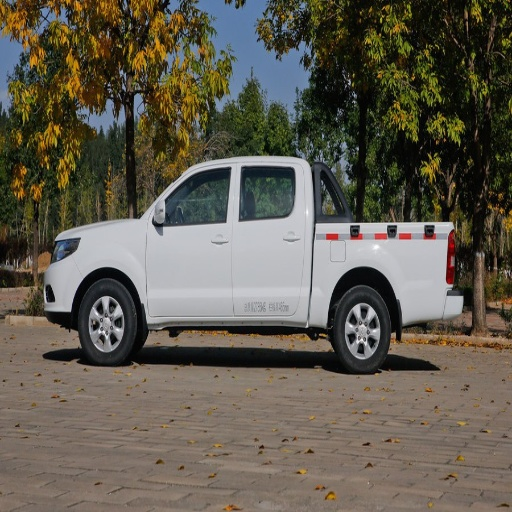back_glass: (236, 162, 308, 313)
front_glass: (146, 164, 235, 315)
tailgate: (310, 224, 451, 325)
trunk: (77, 279, 138, 364), (333, 286, 391, 372)
